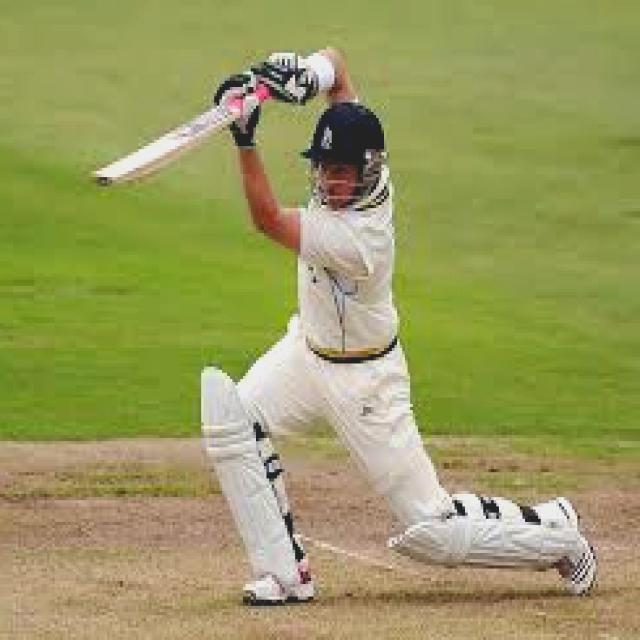bat: (88, 105, 235, 198)
toe: (89, 174, 116, 190)
